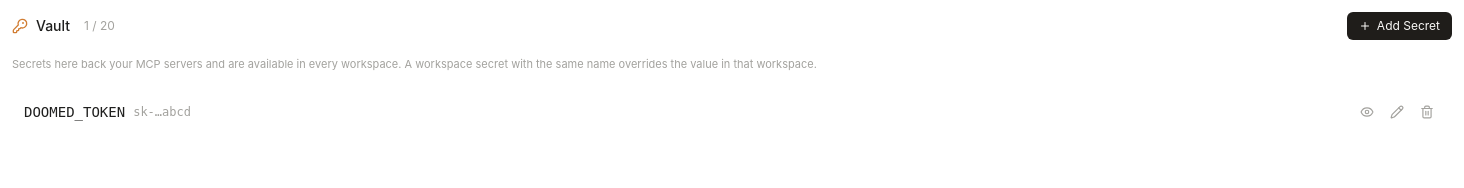
it: SecretsManager via the user vault adapter — delete › surfaces a rejected delete instead of silently dismissing the confirm
Click the button titled "Delete" at [1427, 112], box [1414,98,1440,124]
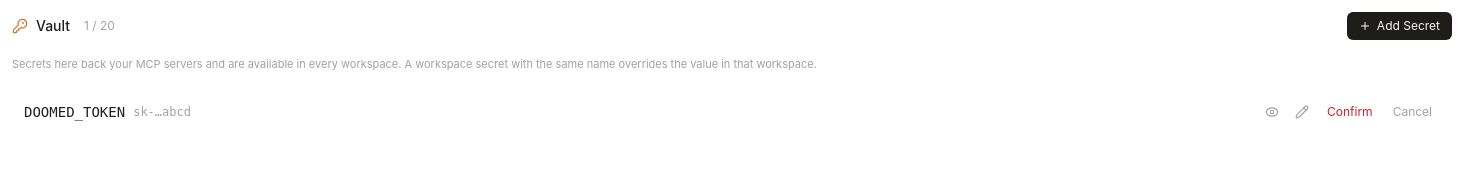
Click the button "Confirm" at [1350, 112], box [1319,100,1381,124]
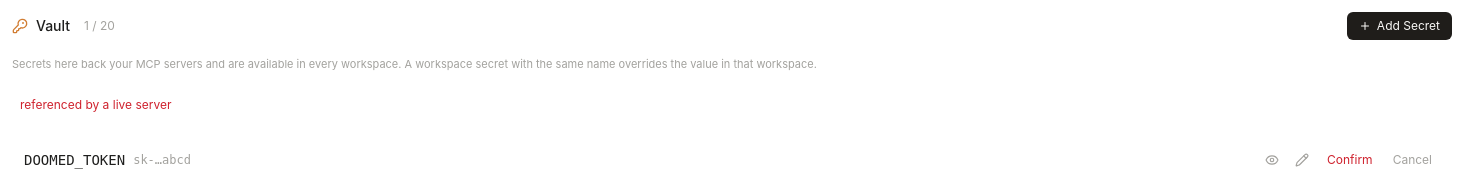
expect the button "Confirm" is shown: met, box [1319,148,1381,172]
expect the text "referenced by a live server" is shown: met, box [12,88,1452,120]
